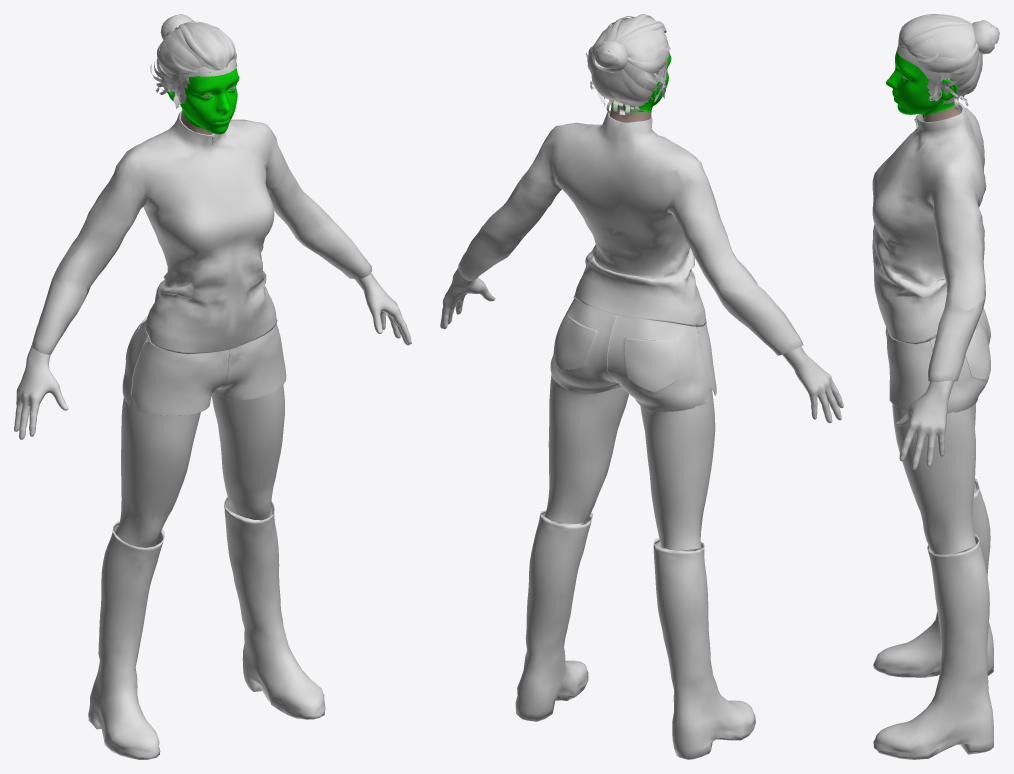
File: zyra.fbx
3 renders of one model, left to right at view 1: azimuth 30°, elevation 25°; view 2: azimuth 150°, elevation 25°; view 3: azimuth 270°, elevation 25°, orthographic.
Visible parts, largest first — view 1: group2, boot_low, body_low_no_head_zyr4, 111_copy1, polySurface96, polySurface90; view 2: group2, boot_low, body_low_no_head_zyr4, 111_copy1, polySurface96, polySurface90; view 3: group2, boot_low, body_low_no_head_zyr4, polySurface96, 111_copy1, polySurface90, polySurface95.
Part boxes in pixels (x1,y1,x2,y2): group2: (32,111,372,354); boot_low: (88,496,325,759); body_low_no_head_zyr4: (14,272,411,547); 111_copy1: (122,316,286,415); polySurface96: (150,14,236,108); polySurface90: (165,68,239,134); group2: (458,110,803,355); boot_low: (515,510,755,759); body_low_no_head_zyr4: (440,268,843,574); 111_copy1: (550,298,716,411); polySurface96: (585,14,670,115); polySurface90: (609,53,671,122); group2: (872,102,986,381); boot_low: (873,478,993,759); body_low_no_head_zyr4: (892,380,976,744); polySurface96: (898,14,999,109); 111_copy1: (885,307,990,413); polySurface90: (886,50,961,121); polySurface95: (897,45,958,103).
Bounding box in the file's own units: 17057 × 28906 × 4815.
